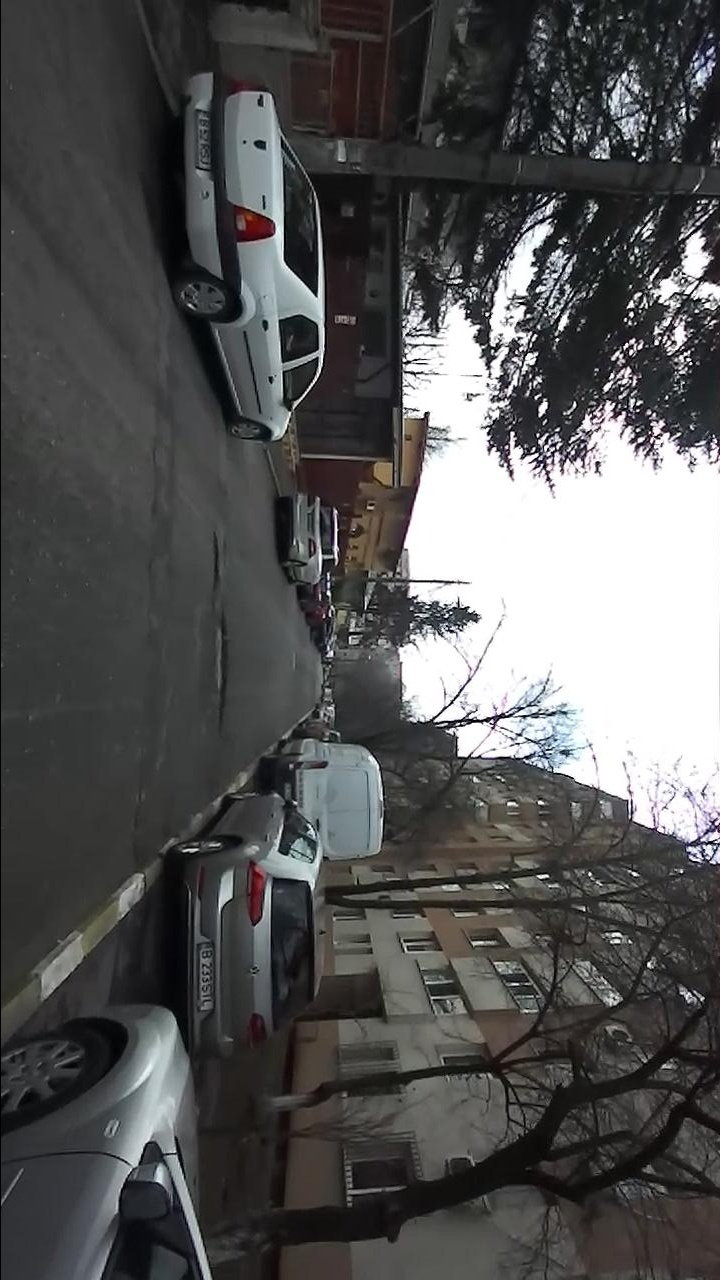pothole: (210, 611, 231, 737), (209, 529, 223, 594)
